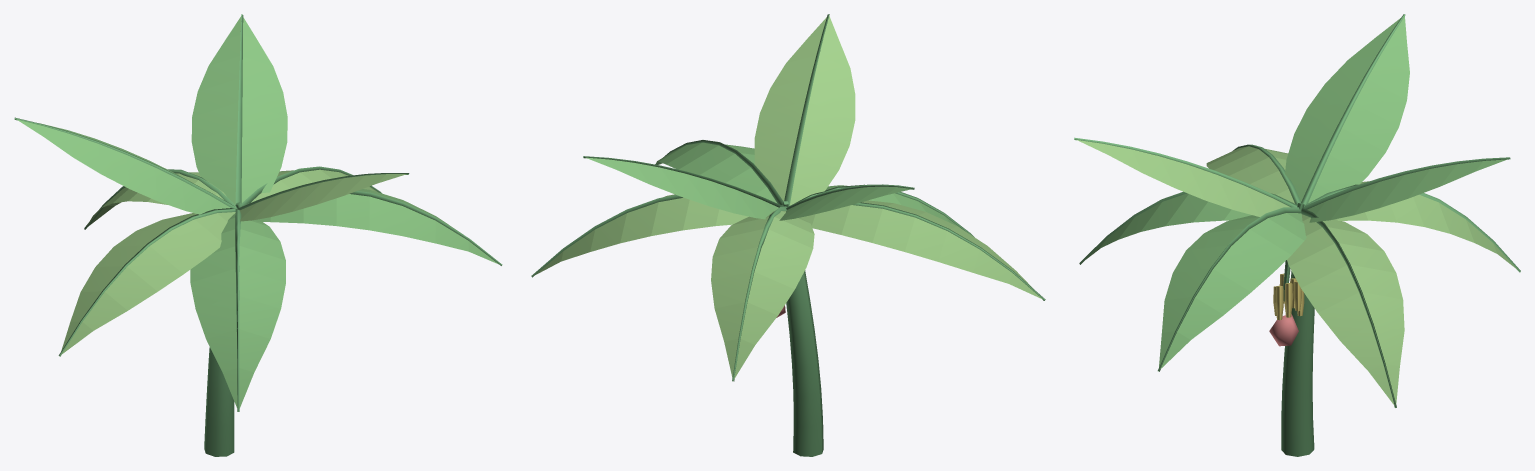
File: banane_2.glb
3 renders of one model, left to right at view 1: azimuth 30°, elevation 25°; view 2: azimuth 150°, elevation 25°; view 3: azimuth 270°, elevation 25°, orthographic. The views are drawn at different scales.
Parts seen in each view (by area): view 1: G_banane_2; view 2: G_banane_2; view 3: G_banane_2.
Boxes of the visible parts, left/top/right/bottom form: G_banane_2: left=14, top=14, right=502, bottom=456; G_banane_2: left=531, top=14, right=1045, bottom=456; G_banane_2: left=1074, top=14, right=1520, bottom=456.
Size of the model in its own units: 6.27 by 4.72 by 5.37.
